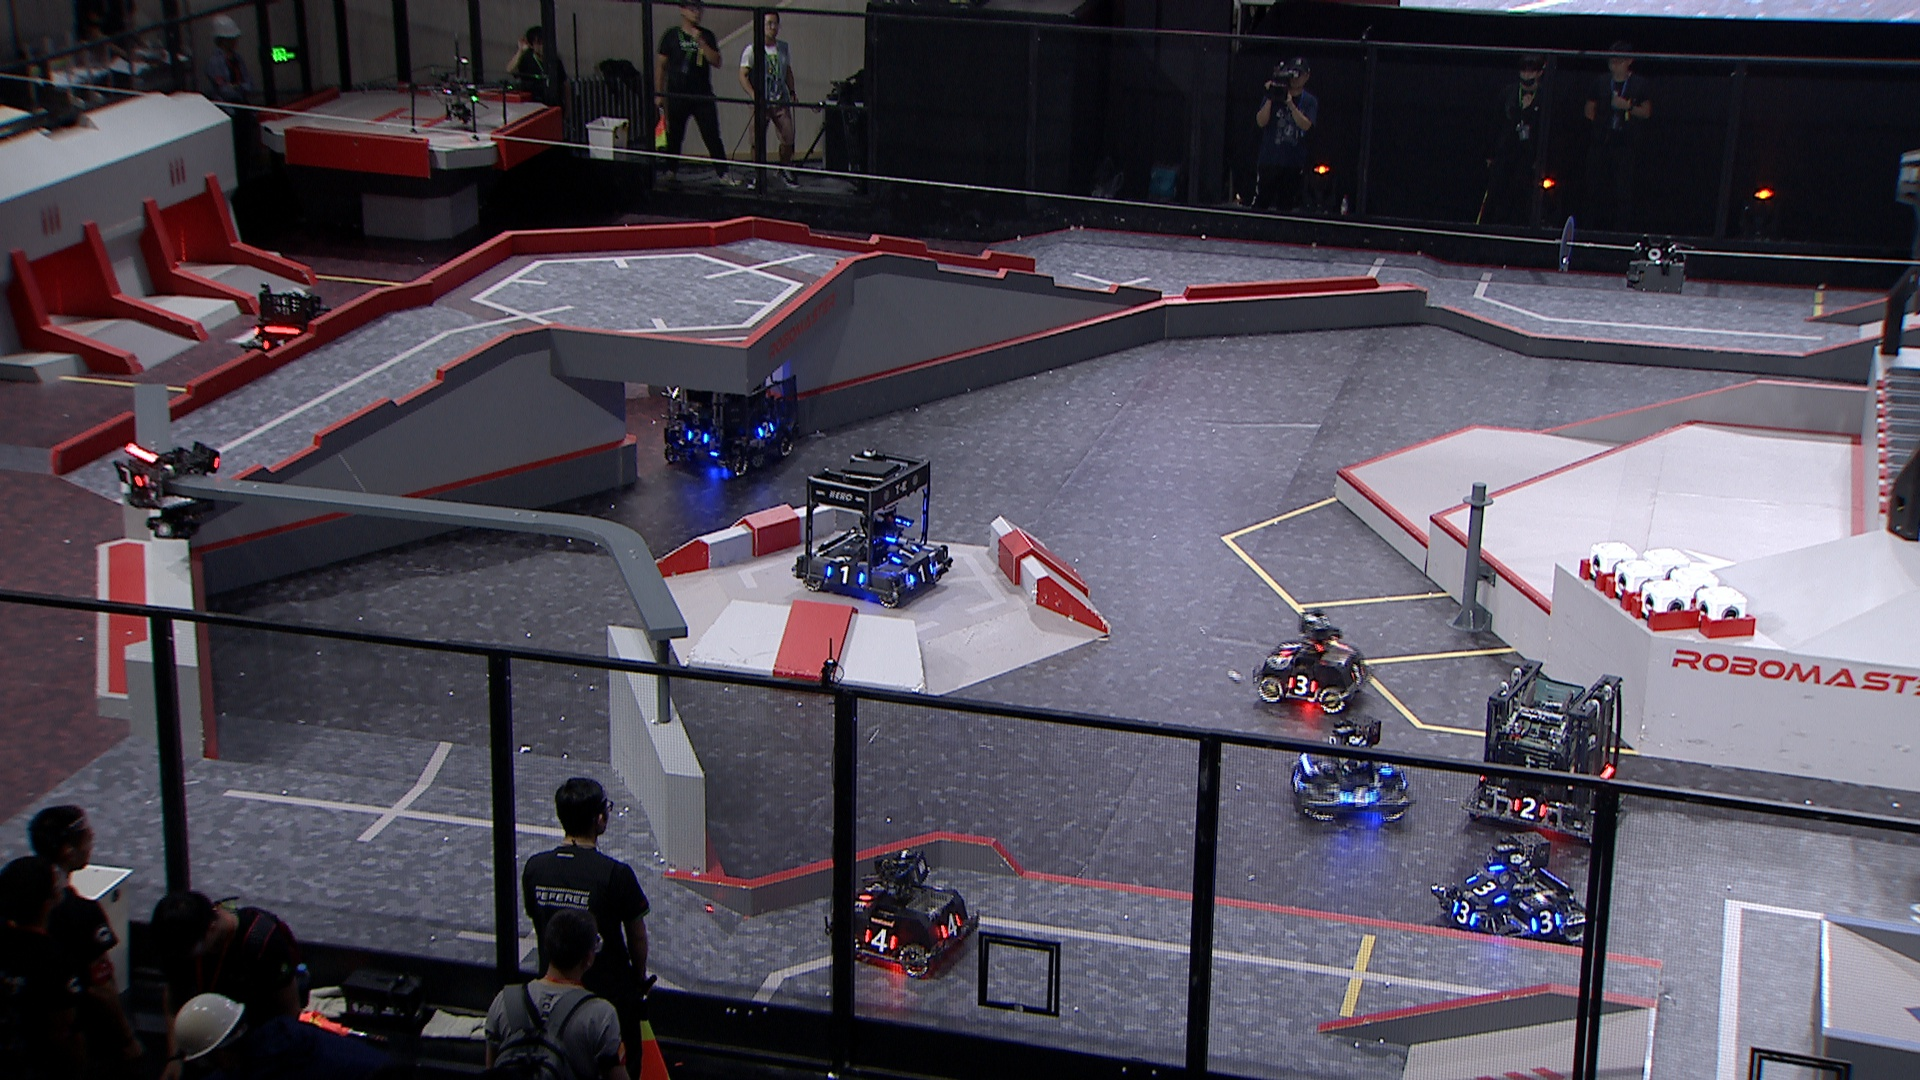armor: (1468, 876, 1501, 902), (823, 564, 865, 584), (860, 927, 897, 949), (113, 465, 146, 488), (1342, 787, 1375, 807), (1513, 796, 1543, 818), (905, 564, 935, 585), (1534, 913, 1563, 934), (1449, 902, 1476, 924), (1286, 675, 1317, 694), (858, 877, 884, 898), (891, 545, 918, 564), (1278, 636, 1302, 657), (942, 913, 961, 936), (262, 338, 287, 353), (684, 429, 709, 444), (1349, 659, 1365, 683), (1373, 756, 1393, 774), (1291, 769, 1305, 793), (760, 419, 775, 438)
car: (1458, 657, 1633, 841), (789, 450, 956, 607), (820, 845, 984, 975), (655, 352, 804, 488), (1433, 828, 1594, 951), (1255, 603, 1370, 716), (1288, 721, 1410, 825), (243, 286, 335, 378)
watcher: (111, 438, 219, 545)
